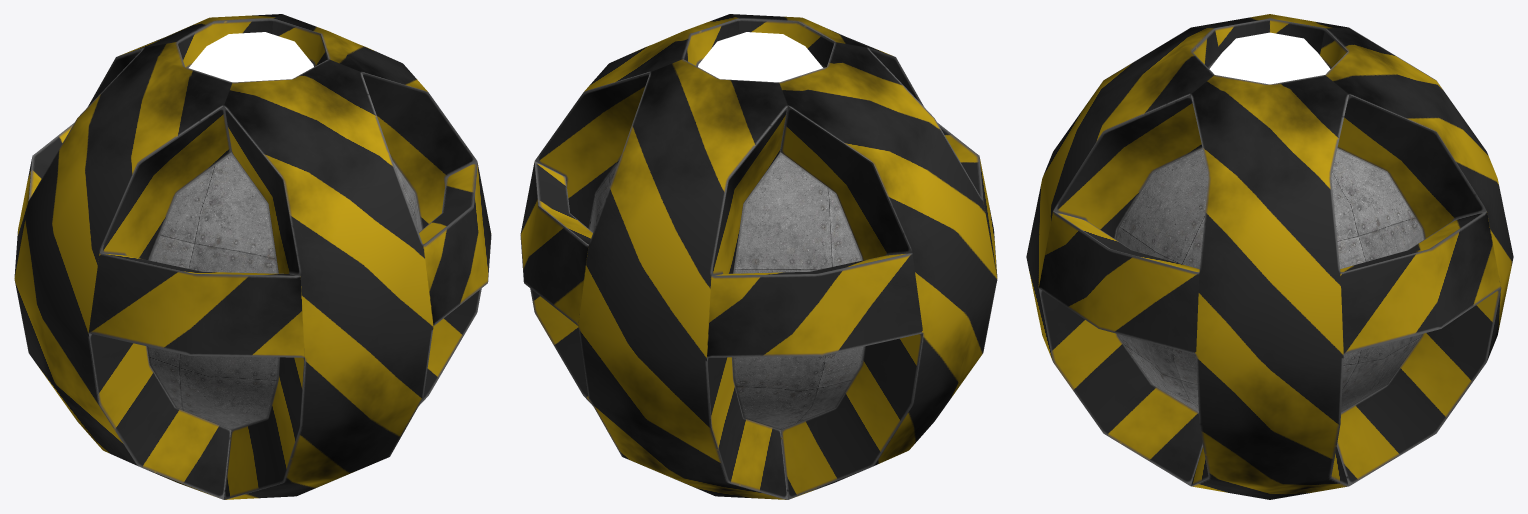
Rendered from Becon.glb.
3 renders of one model, left to right at view 1: azimuth 30°, elevation 25°; view 2: azimuth 150°, elevation 25°; view 3: azimuth 270°, elevation 25°, orthographic.
Visible parts, largest first — view 1: Becon; view 2: Becon; view 3: Becon.
Part boxes in pixels (box(x1,y1,x2,y2)): Becon: box(14, 14, 491, 499); Becon: box(520, 14, 997, 499); Becon: box(1026, 14, 1513, 499).
Size of the model in its own units: 2.8 by 2.8 by 2.8.
Materials: 1 (1 with a texture image).
